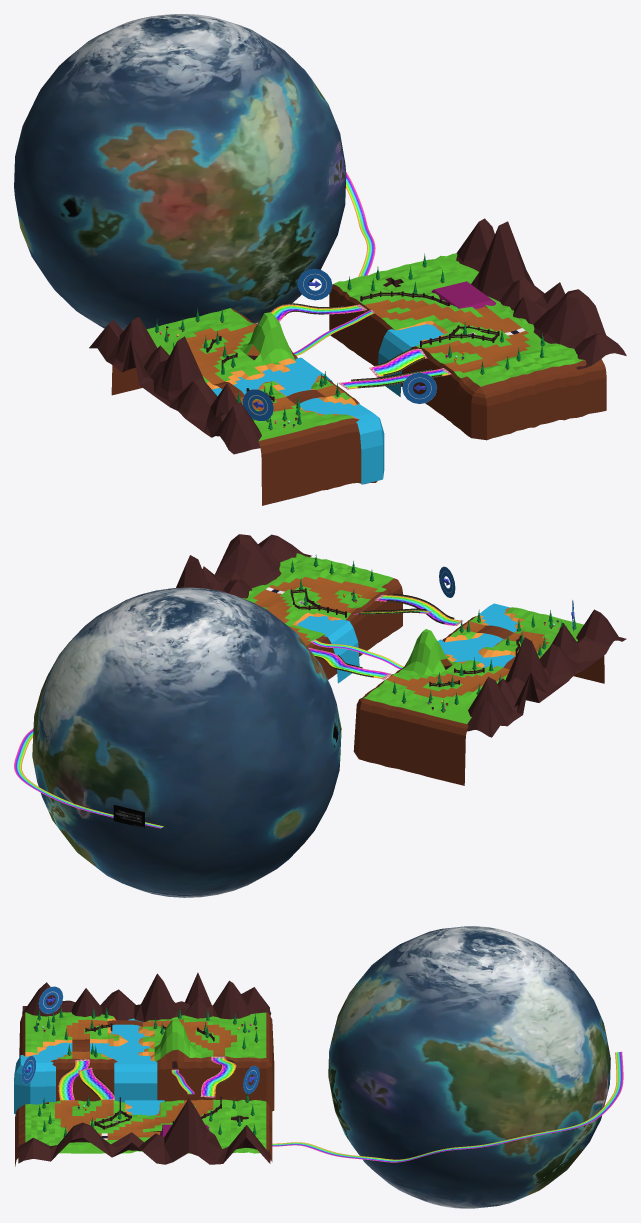
3 renders of one model, top to bottom at view 1: azimuth 30°, elevation 25°; view 2: azimuth 150°, elevation 25°; view 3: azimuth 270°, elevation 25°, orthographic. The views are drawn at different scales.
Parts seen in each view (by area): view 1: wcc.028, shadow.010, shadow.011, shadow.006, wcc.026, wcc.030, shadow.007, wcc.035, wcc.031, wcc.038, wcc.029, wcc.027 (+4 smaller); view 2: wcc.028, shadow.006, shadow.007, wcc.030, shadow.010, wcc.026, wcc.035, shadow.011, wcc.031, wcc.027, wcc.033, wcc.032 (+2 smaller); view 3: wcc.028, shadow.006, shadow.010, shadow.007, wcc.030, wcc.026, wcc.035, wcc.029, wcc.031, wcc.033, wcc.038, shadow.011 (+2 smaller).
Boxes of the visible parts, left/top/right/bottom form: wcc.028: left=14, top=14, right=346, bottom=330; shadow.010: left=333, top=253, right=584, bottom=386; shadow.011: left=329, top=277, right=606, bottom=440; shadow.006: left=147, top=308, right=358, bottom=440; wcc.026: left=456, top=218, right=626, bottom=369; wcc.030: left=89, top=316, right=261, bottom=454; shadow.007: left=111, top=308, right=377, bottom=505; wcc.035: left=271, top=172, right=449, bottom=389; wcc.031: left=212, top=357, right=379, bottom=423; wcc.038: left=242, top=269, right=436, bottom=420; wcc.029: left=326, top=376, right=384, bottom=484; wcc.027: left=378, top=324, right=444, bottom=396; wcc.028: left=32, top=587, right=341, bottom=897; shadow.006: left=364, top=607, right=583, bottom=723; shadow.007: left=353, top=616, right=604, bottom=785; wcc.030: left=466, top=609, right=626, bottom=737; shadow.010: left=243, top=553, right=393, bottom=645; wcc.026: left=176, top=534, right=311, bottom=598; wcc.035: left=14, top=595, right=460, bottom=828; shadow.011: left=307, top=564, right=402, bottom=679; wcc.031: left=438, top=603, right=517, bottom=667; wcc.027: left=297, top=616, right=359, bottom=683; wcc.033: left=290, top=554, right=576, bottom=712; wcc.032: left=315, top=594, right=454, bottom=677; wcc.028: left=328, top=926, right=610, bottom=1208; shadow.006: left=25, top=1012, right=266, bottom=1068; shadow.010: left=25, top=1099, right=266, bottom=1153; shadow.007: left=19, top=1012, right=274, bottom=1111; wcc.030: left=22, top=972, right=271, bottom=1022; wcc.026: left=16, top=1098, right=270, bottom=1164; wcc.035: left=58, top=1051, right=623, bottom=1162; wcc.029: left=14, top=1056, right=157, bottom=1114; wcc.031: left=20, top=1018, right=157, bottom=1071; wcc.033: left=34, top=1007, right=258, bottom=1136; wcc.038: left=21, top=986, right=259, bottom=1094; shadow.011: left=15, top=1102, right=272, bottom=1166.
Size of the model in its own units: 95440 by 70421 by 152754.
Materials: 19 (19 with a texture image).
